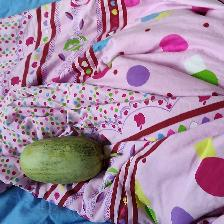gua: (18, 141, 104, 184)
